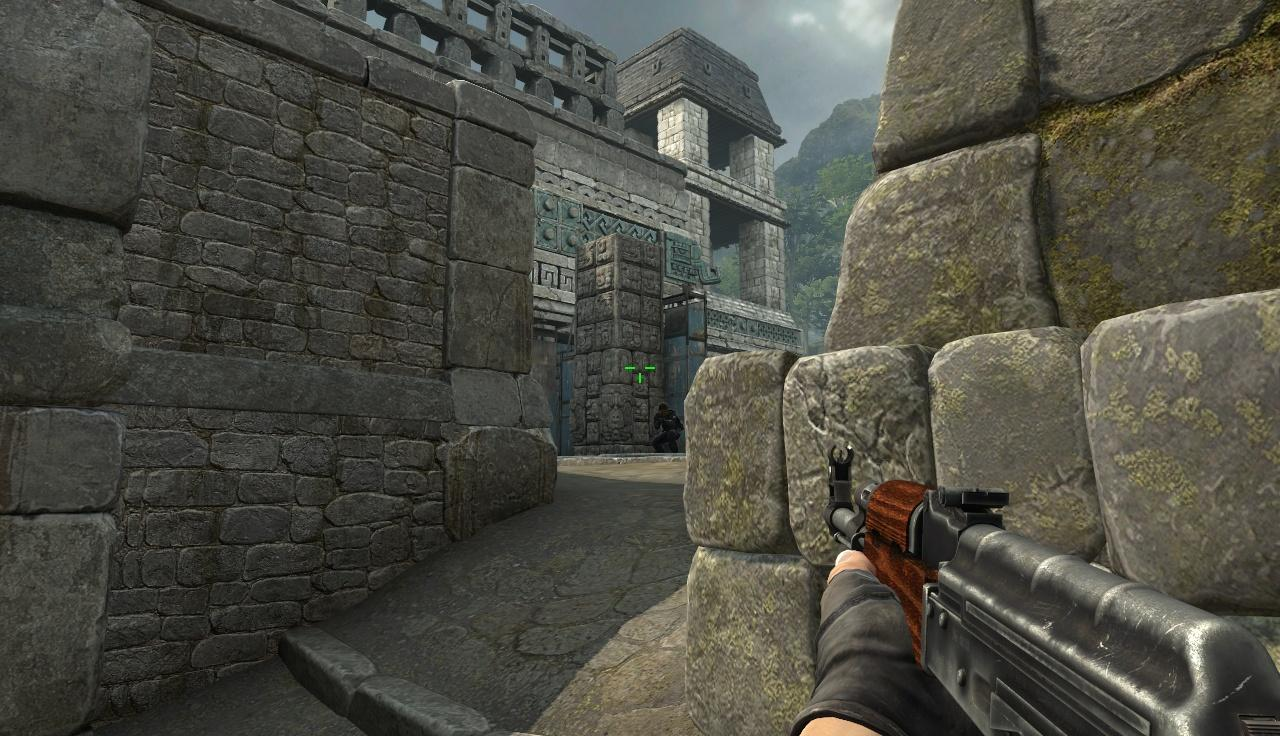ct: (652, 404, 682, 459)
cthead: (657, 404, 669, 418)
rifle: (830, 443, 1280, 731)
